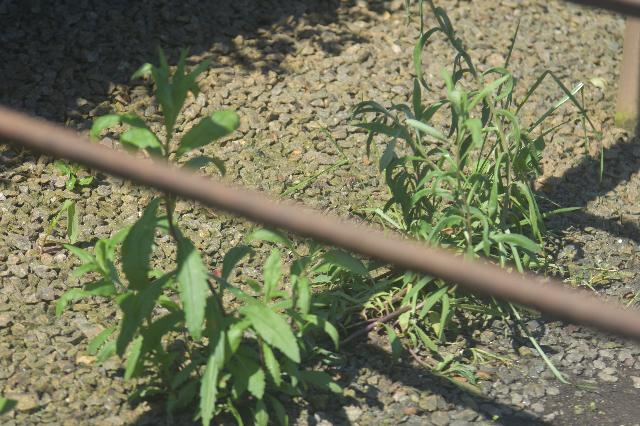MalezaMontesDelPlata: (46, 212, 212, 426), (400, 0, 525, 262), (202, 253, 373, 426), (83, 46, 241, 182), (359, 261, 515, 366), (344, 92, 426, 248), (46, 158, 93, 194)
